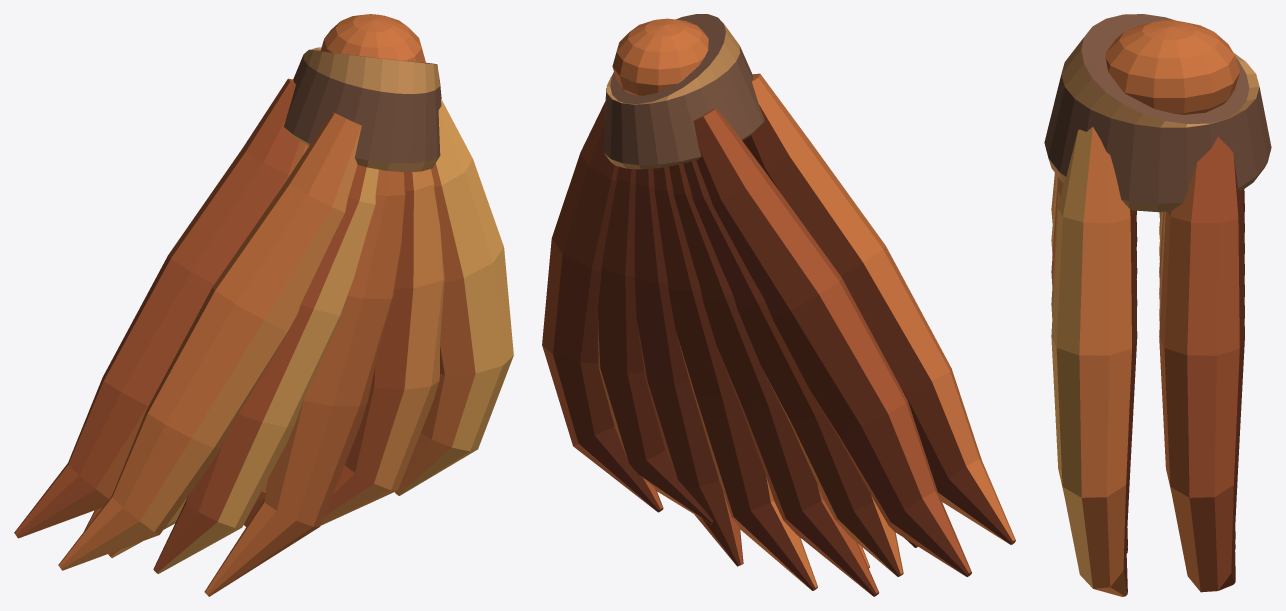
File: Lion_Mane.glb
3 views of the same model, side by side, from view 1: azimuth 30°, elevation 25°; view 2: azimuth 150°, elevation 25°; view 3: azimuth 270°, elevation 25° (orthographic). The views are drawn at different scales.
Parts seen in each view (by area): view 1: Lion_Mane; view 2: Lion_Mane; view 3: Lion_Mane.
Part boxes in pixels (x1,y1,x2,y2): Lion_Mane: (14,14,513,596); Lion_Mane: (542,14,1015,596); Lion_Mane: (1044,14,1271,596).
Bounding box in the file's own units: 1.26 × 1.42 × 0.4638.
